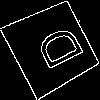D: (26, 23, 85, 77)
